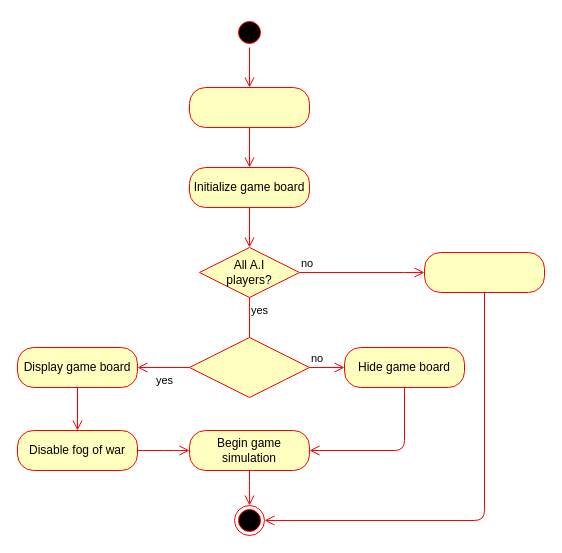
Image size: 562x553. Some labels were removed from this diagram. The box of each missing label's shape, as (x1, y1, x2, y2) in pixels:
Display "Ready Next Player" screen: (424, 252, 544, 292)
Press "START GAME" button: (188, 86, 310, 128)
Spectator mode enabled?: (188, 336, 310, 398)
